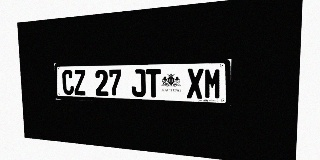2: (95, 70, 108, 96)
7: (108, 69, 122, 96)
C: (62, 70, 74, 95)
J: (131, 69, 146, 97)
M: (204, 68, 222, 99)
T: (146, 69, 161, 97)
X: (187, 68, 204, 99)
Z: (73, 70, 86, 95)
